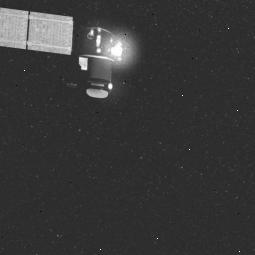earth_observation_sat_1: (1, 7, 136, 108)
